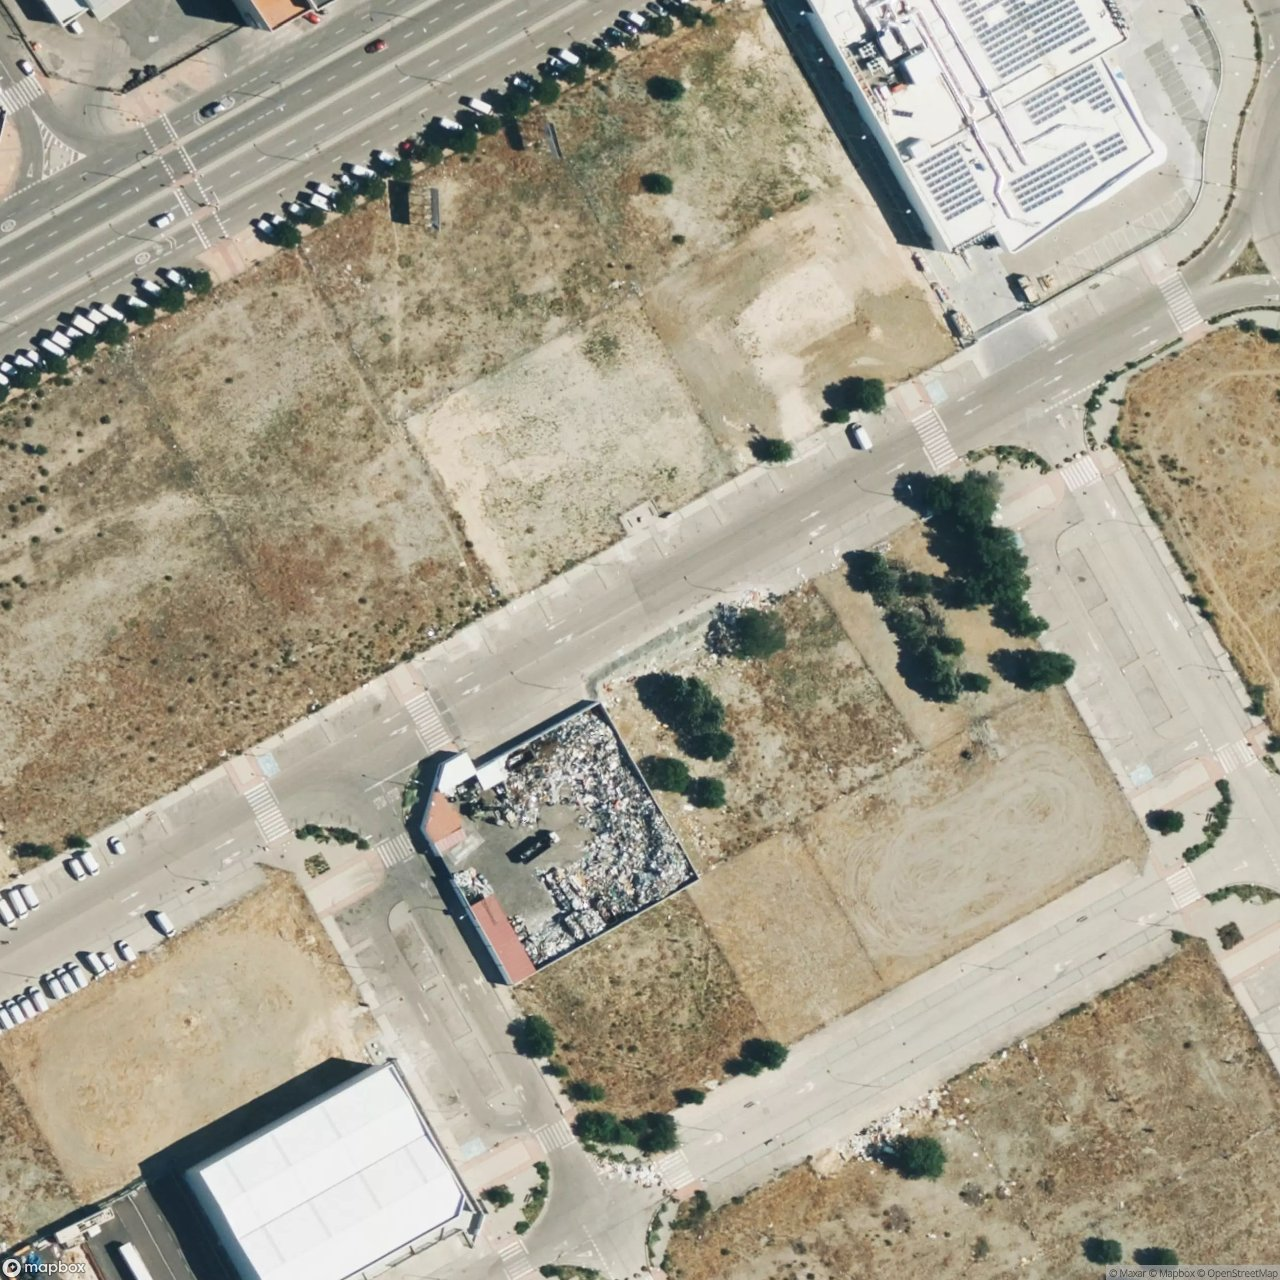dump_site: (491, 707, 693, 938)
